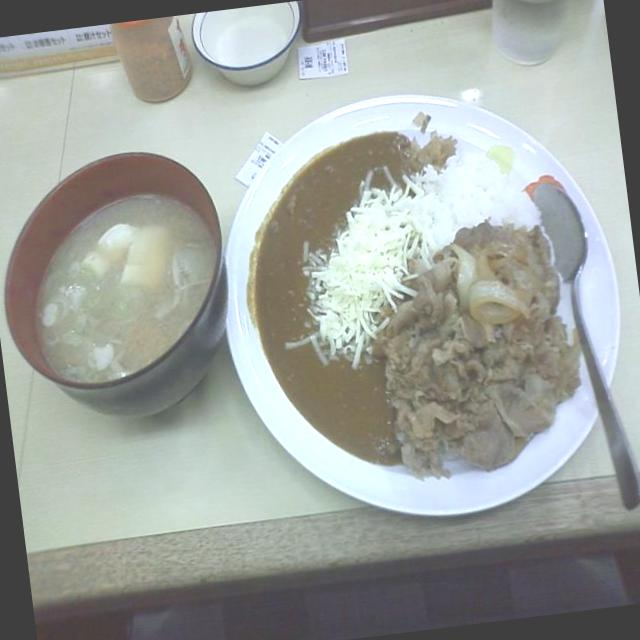Beef Curry: (239, 115, 565, 458)
